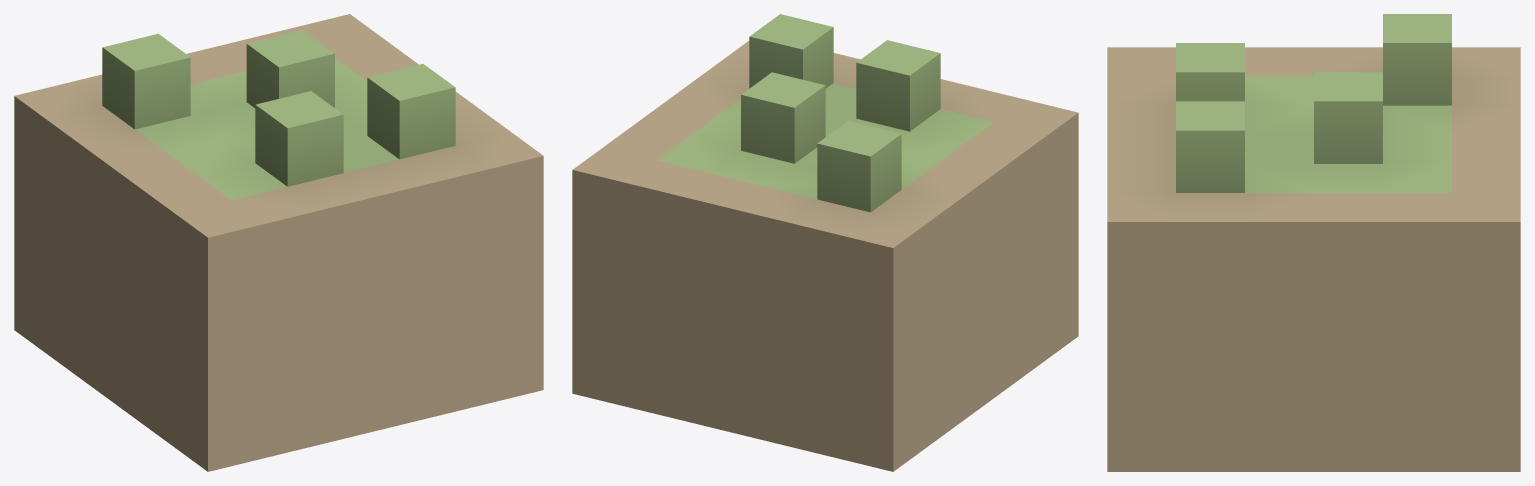
Rendered from cageot_laitues.glb.
3 renders of one model, left to right at view 1: azimuth 30°, elevation 25°; view 2: azimuth 150°, elevation 25°; view 3: azimuth 270°, elevation 25°, orthographic. The views are drawn at different scales.
Visible parts, largest first — view 1: geometry_0; view 2: geometry_0; view 3: geometry_0.
Part boxes in pixels (x1,y1,x2,y2): geometry_0: [14, 14, 543, 471]; geometry_0: [572, 14, 1078, 471]; geometry_0: [1107, 14, 1520, 471].
Bounding box in the file's own units: 0.75 × 0.625 × 0.75.
